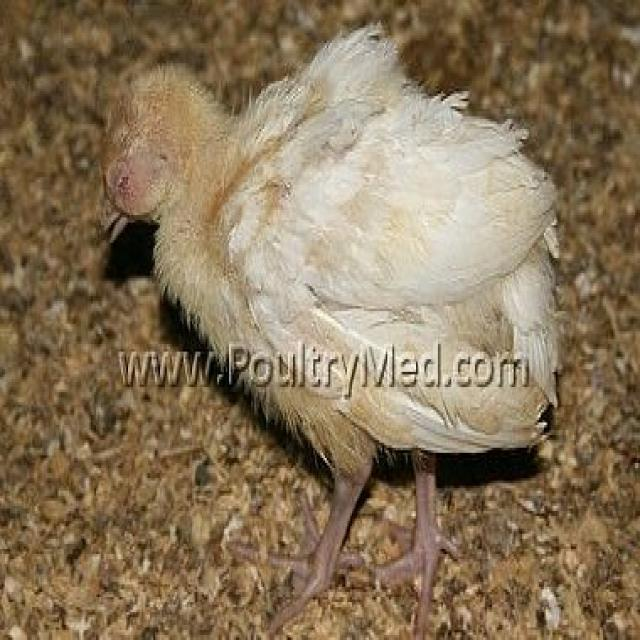Infectios bronchitis: (93, 56, 217, 324)
